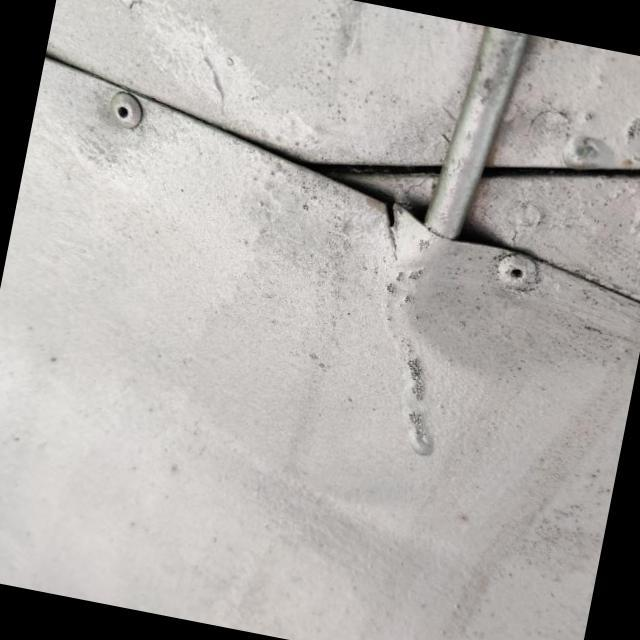Rupture: (356, 182, 423, 260)
